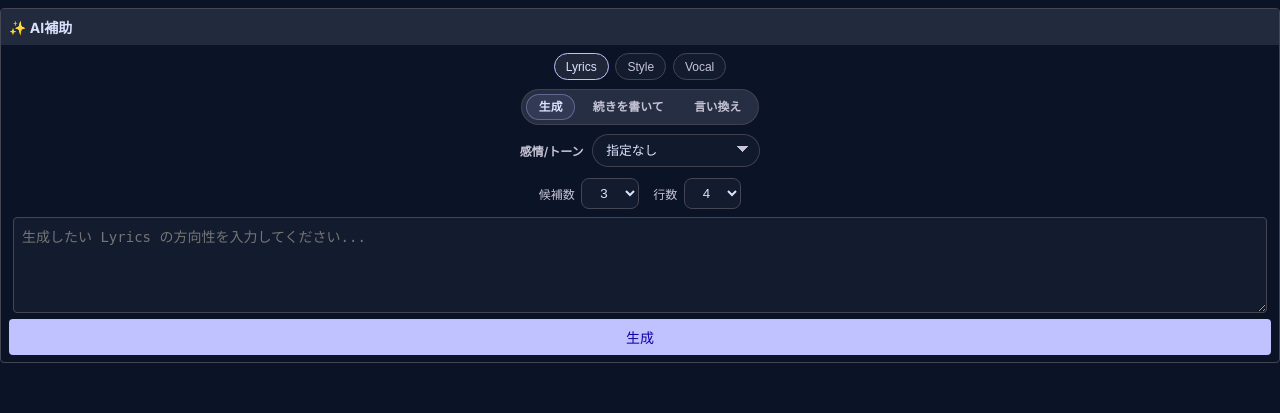
Test: LLMAssistPanel › generation flow › should block paraphrase generation when input is empty
Click the tab "言い換え". click: (718, 107)
box: [681,94,754,120]
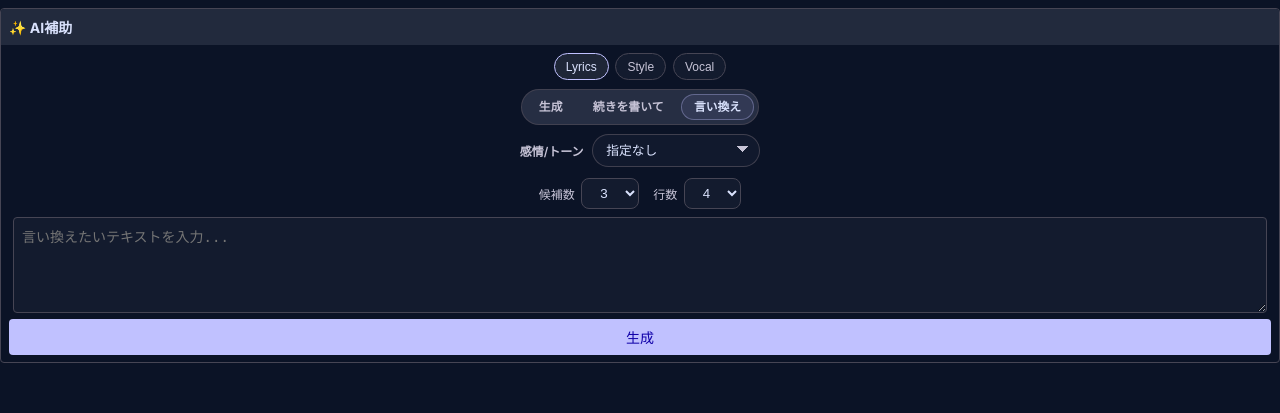
Click the button "生成". click: (640, 337)
box: [9,319,1271,355]
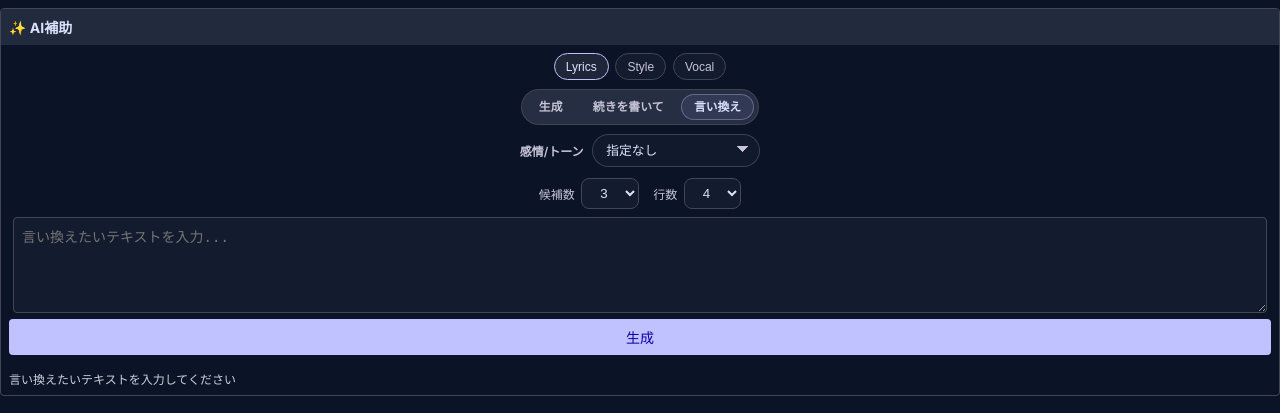
Check: the text "言い換えたいテキストを入力してください" is shown, box [9,372,236,387]
